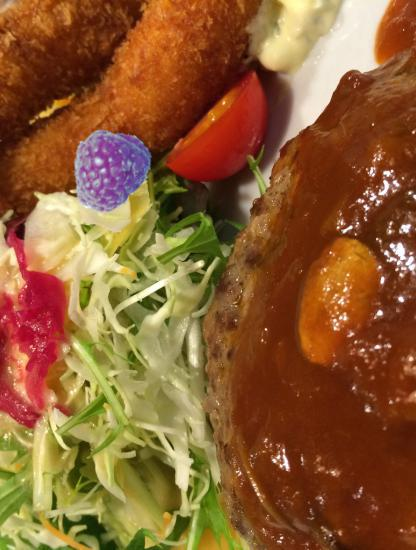Raspberry: (63, 125, 150, 212)
